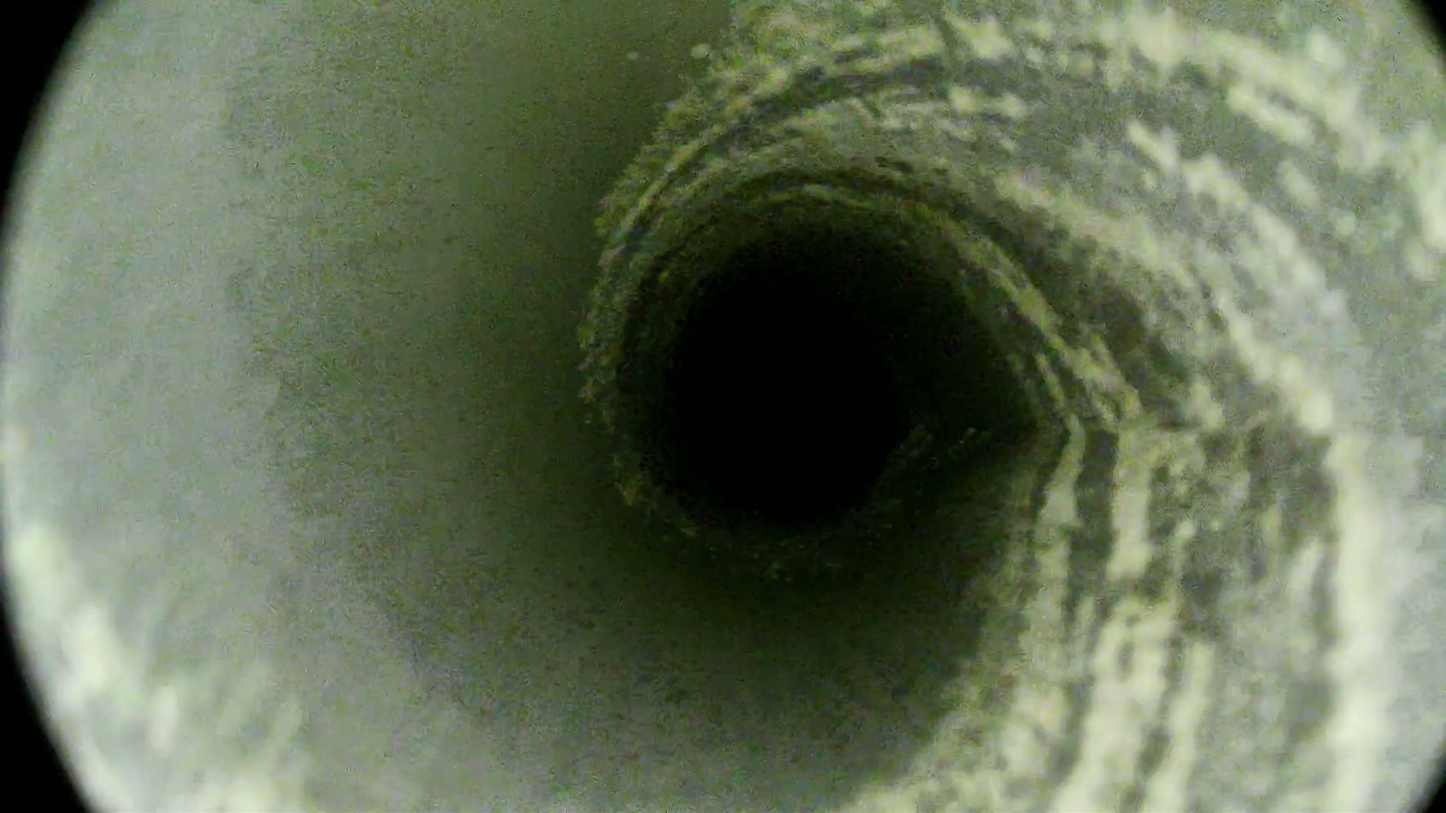hole: (678, 290, 898, 520)
